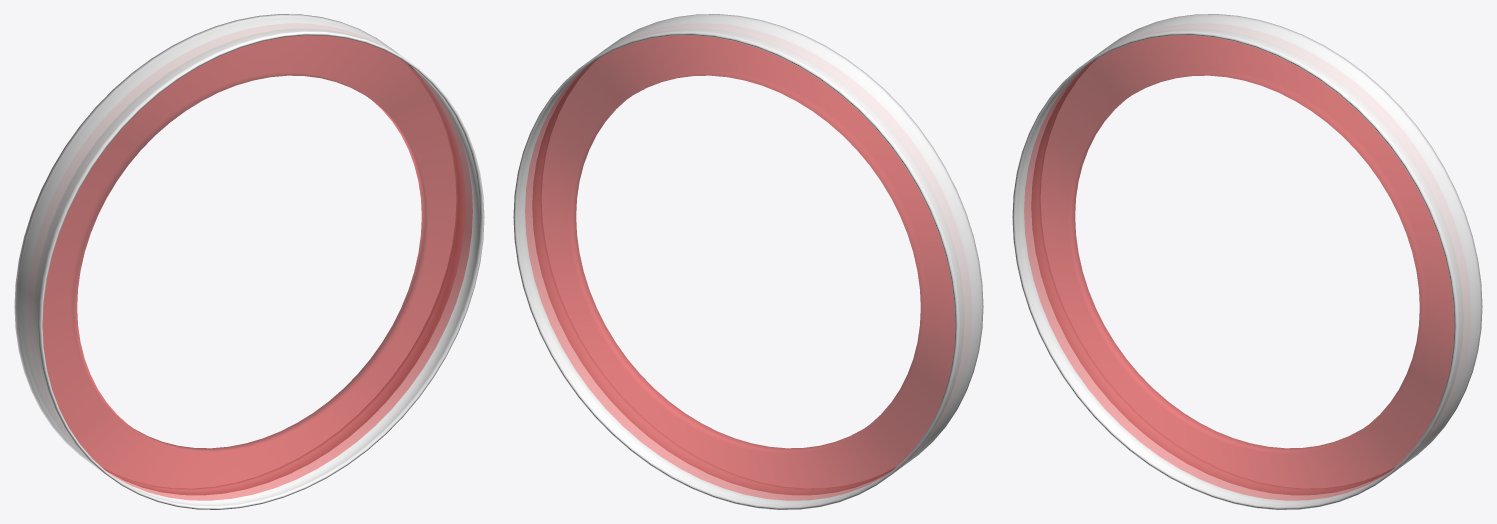
File: FlickNote16.fbx
3 views of the same model, side by side, from view 1: azimuth 30°, elevation 25°; view 2: azimuth 150°, elevation 25°; view 3: azimuth 330°, elevation 25° (orthographic).
Parts seen in each view (by area): view 1: FlickNote16; view 2: FlickNote16; view 3: FlickNote16.
Part boxes in pixels (bbox=[...]): FlickNote16: bbox=[14, 14, 484, 509]; FlickNote16: bbox=[513, 14, 983, 509]; FlickNote16: bbox=[1012, 14, 1482, 509].
Size of the model in its own units: 198 by 20 by 198.
